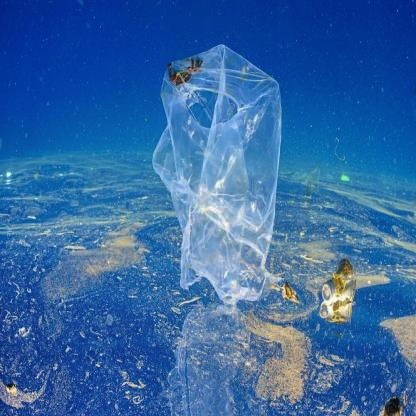pbag: (151, 44, 283, 306)
plastic: (321, 257, 357, 304)
